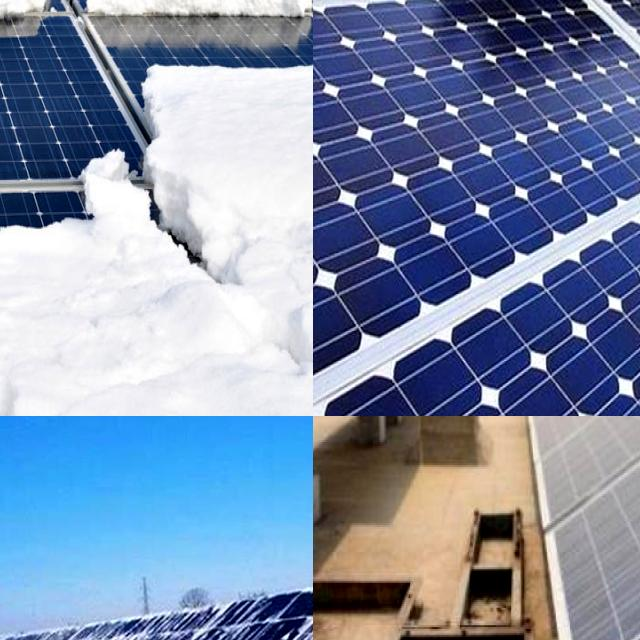crack: (313, 0, 640, 395), (317, 153, 640, 416)
dust: (543, 416, 640, 493)
panel: (0, 197, 169, 333), (91, 52, 208, 218), (0, 138, 57, 338), (84, 0, 313, 42), (39, 0, 313, 34), (0, 50, 71, 151), (0, 0, 100, 55), (210, 607, 280, 640), (0, 0, 100, 21), (112, 620, 216, 640), (0, 0, 61, 26), (34, 630, 115, 640)
